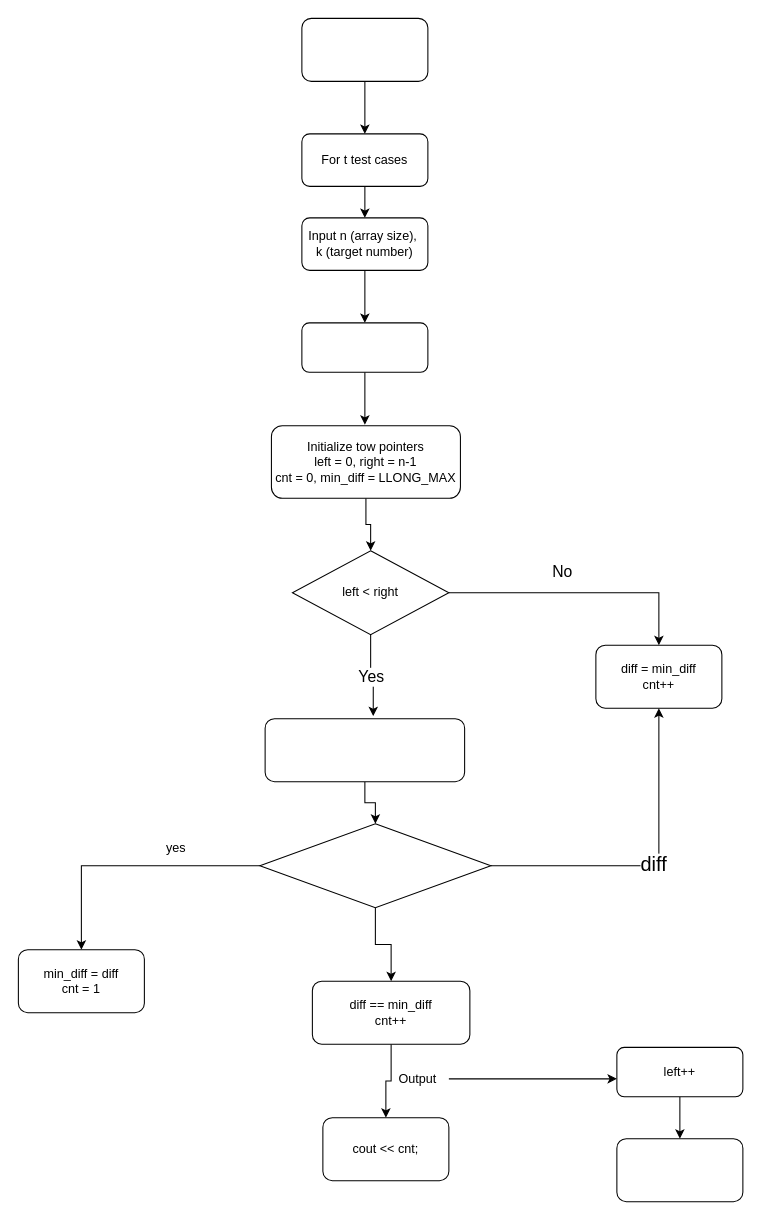
Some shapes in this 761 by 1220 pixel diagram are drawn without their labels. The centre of each missing label's shape, as x and y in pixels:
"diff < min_diff" belongs at point 375,865.
"Input array of n integers" belongs at point 364,347.
"Input number of test cases t" belongs at point 364,49.
"sum = arr[left] + arr[right] diff = llabs(sum - k)" belongs at point 364,750.
